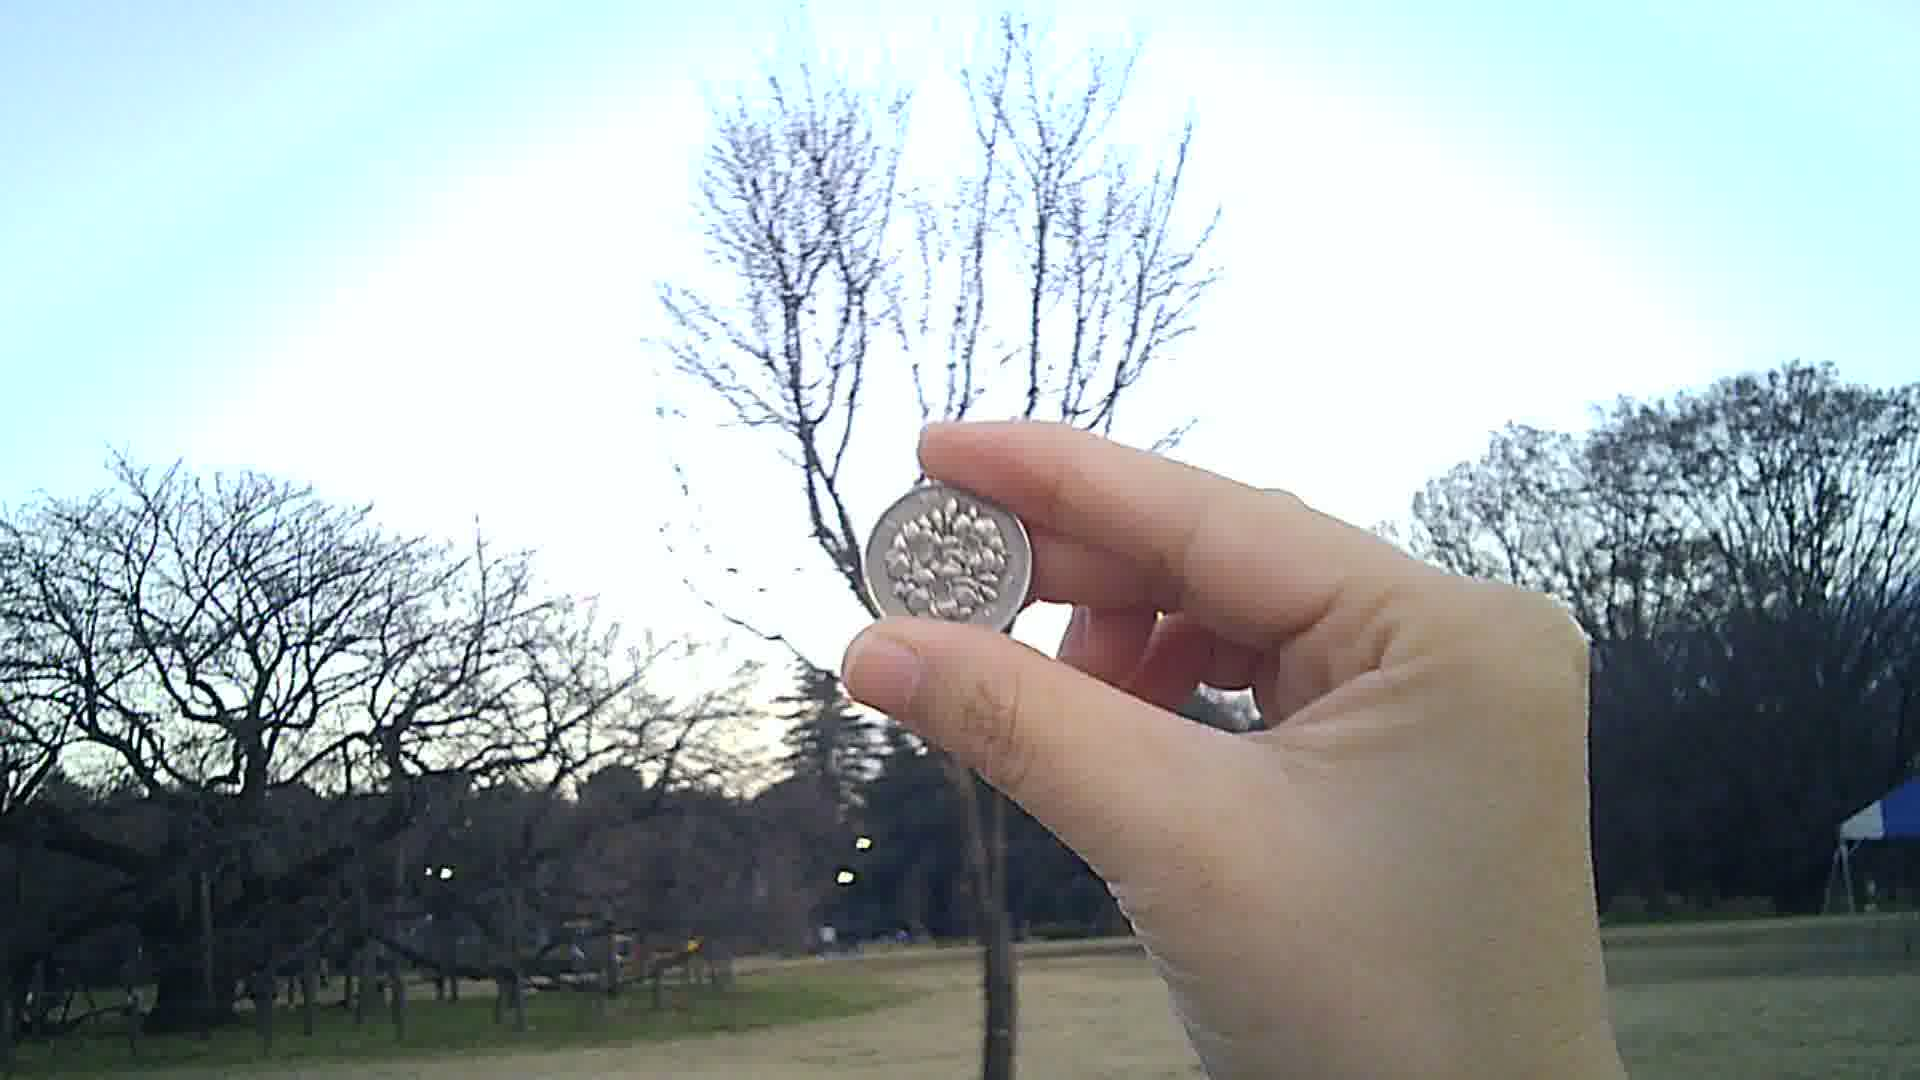100 Yen: (856, 483, 1044, 651)
